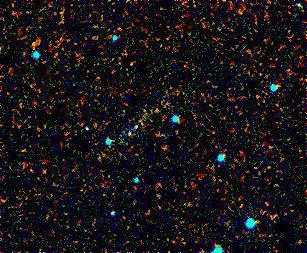star: (122, 116, 152, 146)
